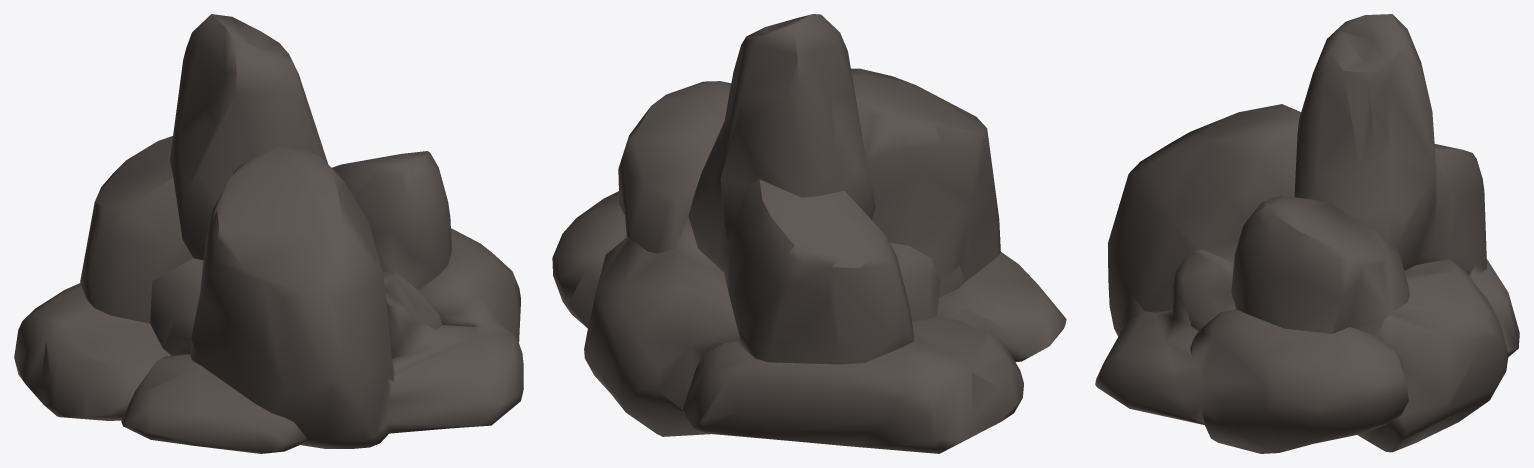
The model's file is Environment_Cliff2.low.gltf.
The picture shows the model from 3 angles, left to right: view 1: azimuth 30°, elevation 25°; view 2: azimuth 150°, elevation 25°; view 3: azimuth 270°, elevation 25°; orthographic projection. The views are drawn at different scales.
Parts seen in each view (by area): view 1: Environment_Cliff2; view 2: Environment_Cliff2; view 3: Environment_Cliff2.
Part boxes in pixels (x1,y1,x2,y2): Environment_Cliff2: (14,14,523,453); Environment_Cliff2: (552,14,1066,453); Environment_Cliff2: (1095,14,1519,453).
Size of the model in its own units: 8 by 6.91 by 7.08.
Materials: 1 (1 with a texture image).
